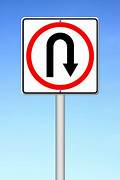back: (24, 21, 95, 90)
